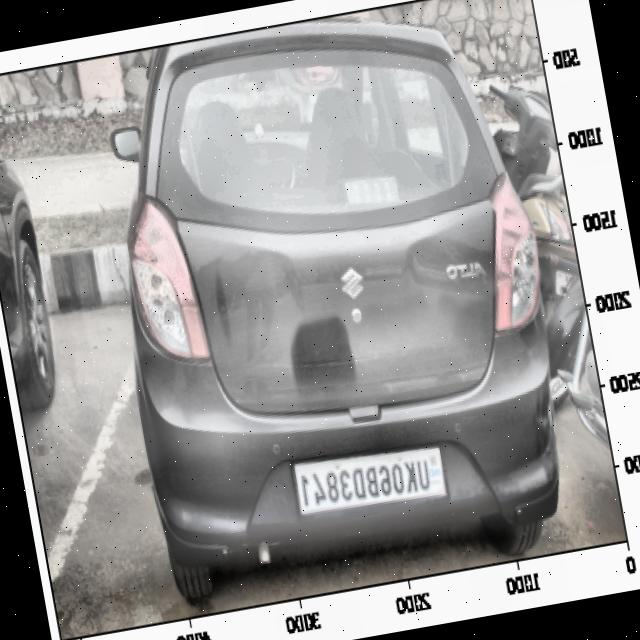license_plate: (292, 446, 443, 518)
